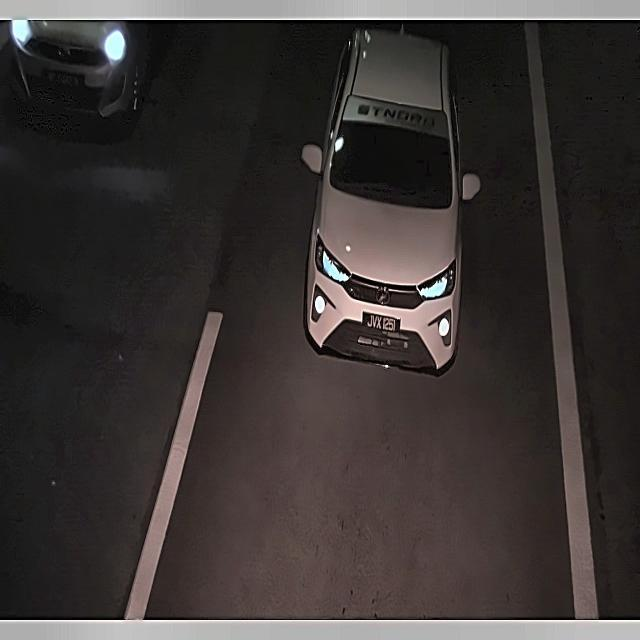car: (358, 307, 404, 339)
